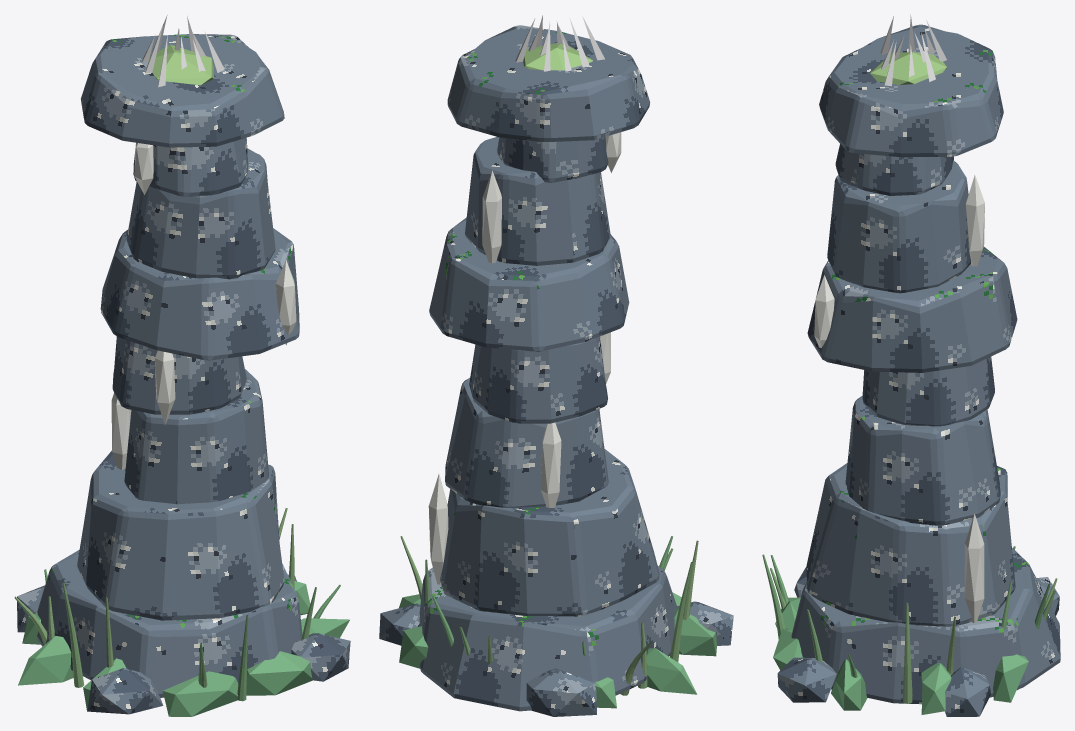
The model's file is coast_stack.glb.
3 views of the same model, side by side, from view 1: azimuth 30°, elevation 25°; view 2: azimuth 150°, elevation 25°; view 3: azimuth 270°, elevation 25° (orthographic).
Visible parts, largest first — view 1: Stack, WeedBand, Droppings, Strand, Tuft; view 2: Stack, Droppings, WeedBand, Strand, Tuft; view 3: Stack, WeedBand, Droppings, Strand, Tuft.
Boxes of the visible parts, x1,y1,x2,y2 form: Stack: (17, 34, 350, 714); WeedBand: (18, 581, 349, 716); Droppings: (111, 142, 296, 469); Strand: (14, 508, 340, 701); Tuft: (142, 15, 224, 87); Stack: (379, 25, 733, 716); Droppings: (428, 132, 621, 584); WeedBand: (399, 592, 716, 708); Strand: (400, 536, 698, 695); Tuft: (515, 15, 604, 71); Stack: (777, 24, 1060, 716); WeedBand: (773, 597, 1028, 714); Droppings: (814, 175, 984, 622); Strand: (762, 546, 1057, 703); Tuft: (870, 14, 946, 86).
Bounding box in the file's own units: 4.75 × 9.76 × 4.17.
20 materials, 1 textured.
